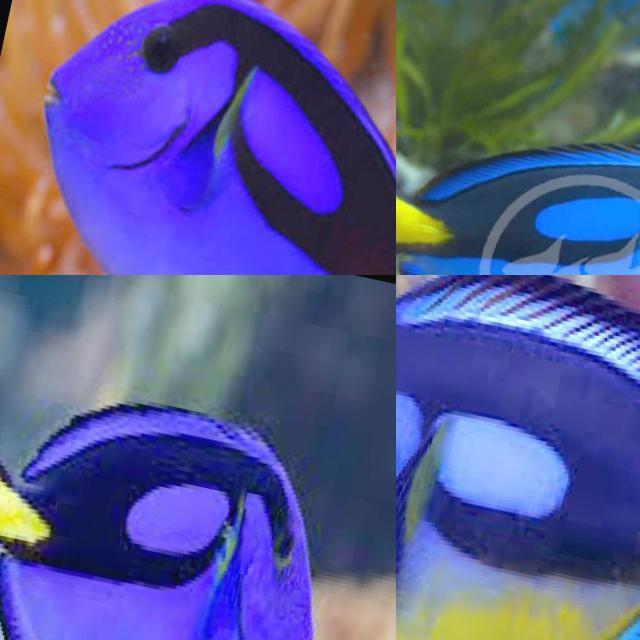BlueTang: (0, 0, 396, 275), (0, 403, 314, 640), (396, 148, 637, 274)
